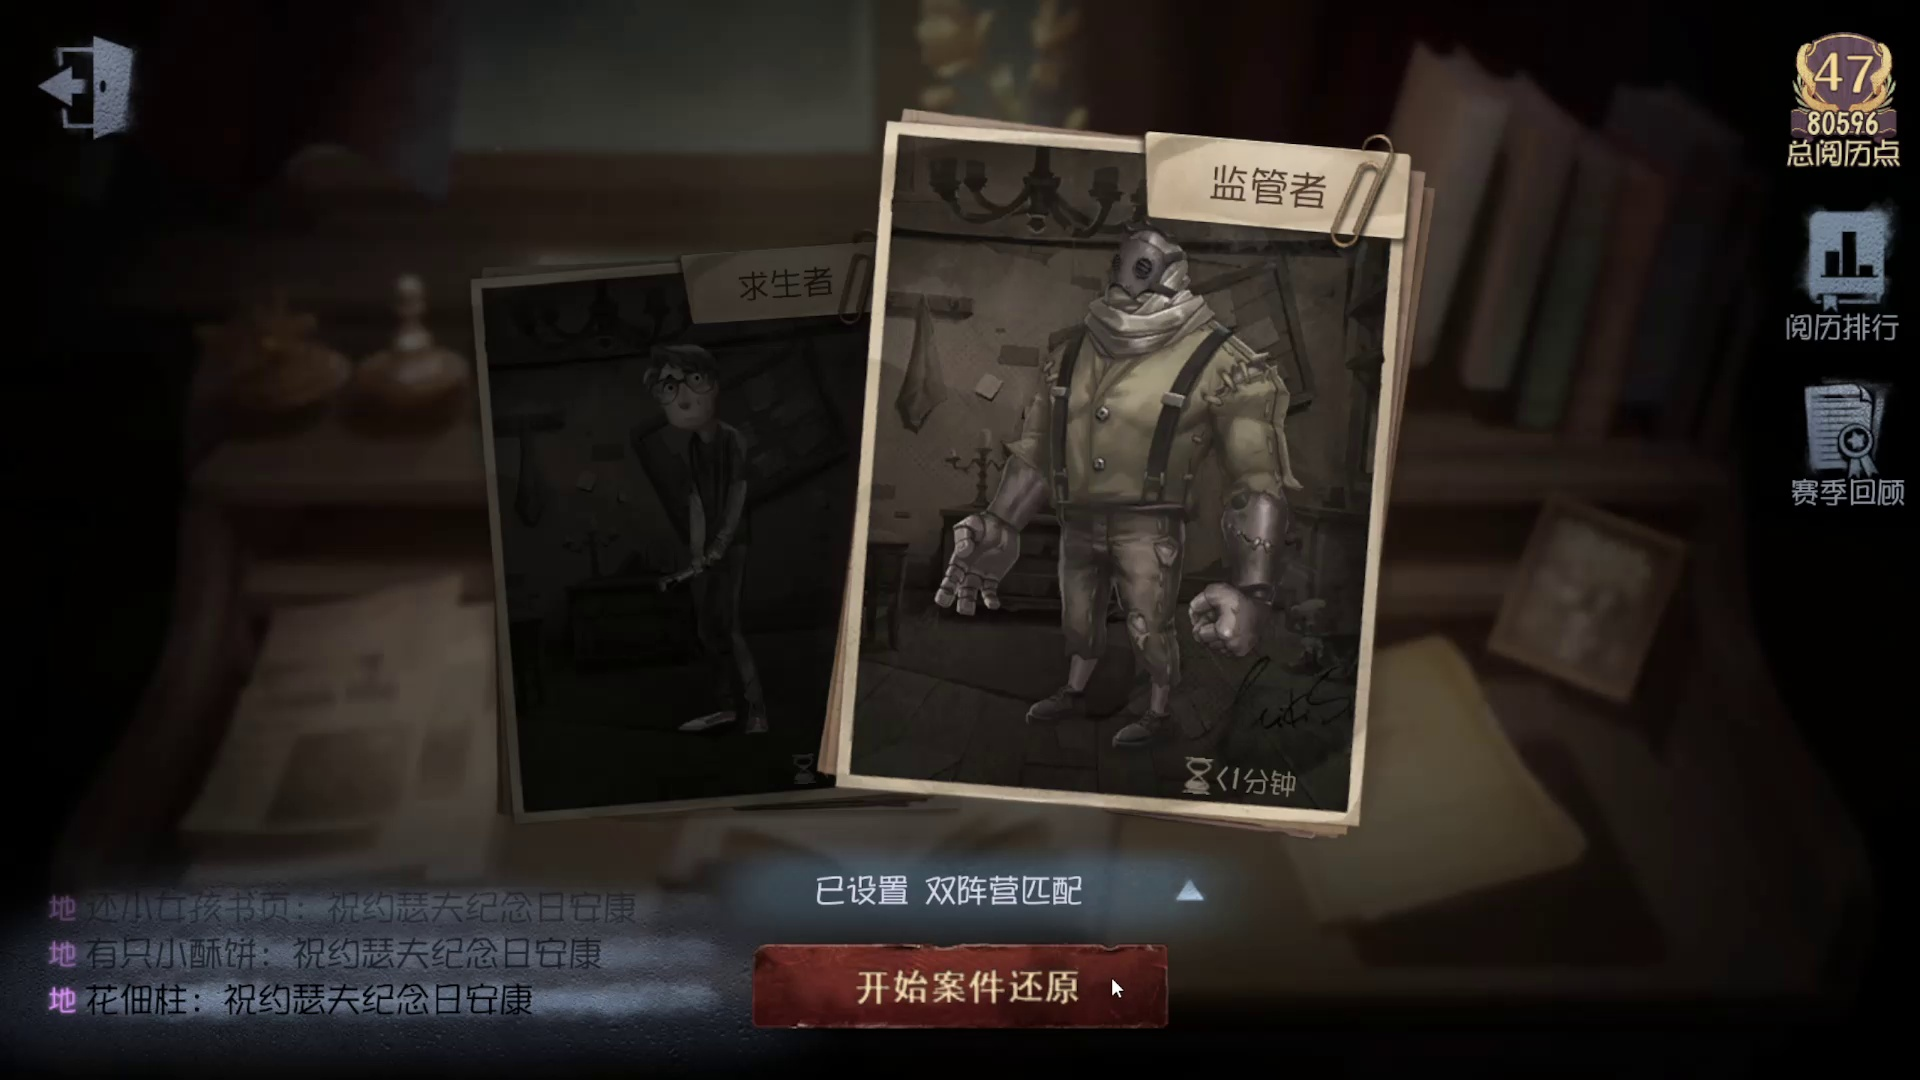开始游戏: (713, 909, 1203, 1044)
监管者: (841, 91, 1418, 870)
